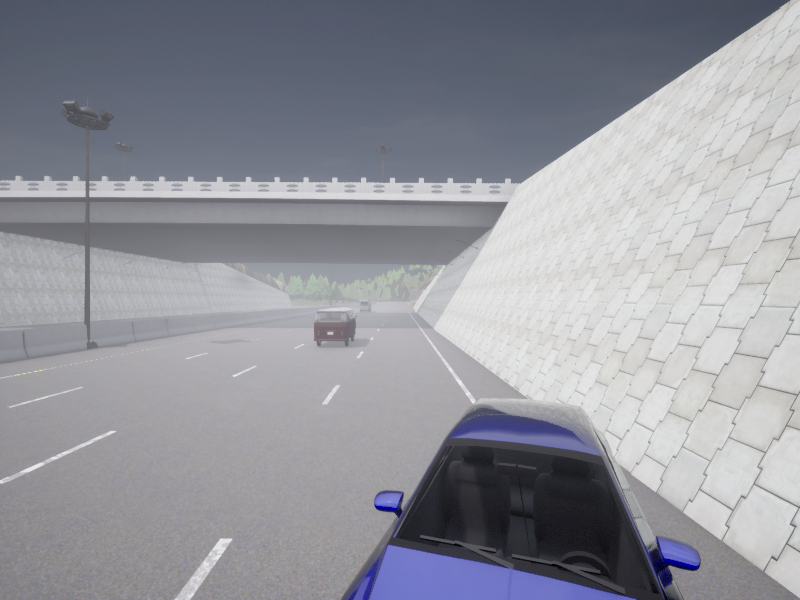vehicle: (341, 398, 700, 599), (314, 307, 356, 345), (360, 299, 371, 311)
